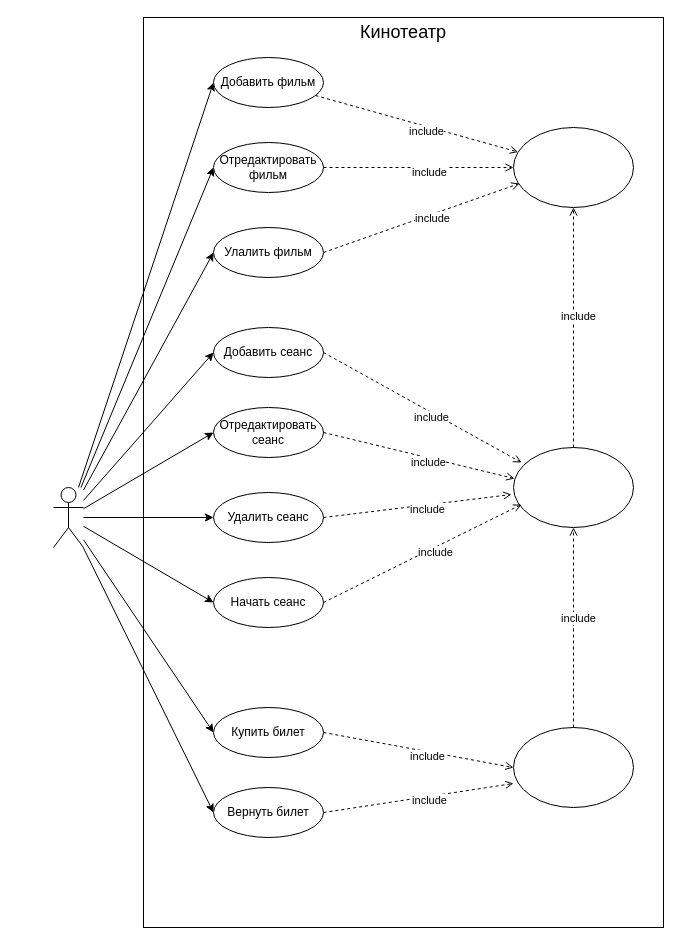
This 681x945 diagram has some shape labels left out. Each missing label, with the centre of its shape:
"Админ кинотеатра" goes at (x=68, y=517).
"Просмотреть список билетов" goes at (x=573, y=767).
"Просмотреть список сеансов" goes at (x=573, y=487).
"Просмотреть список фильмов" goes at (x=573, y=167).
